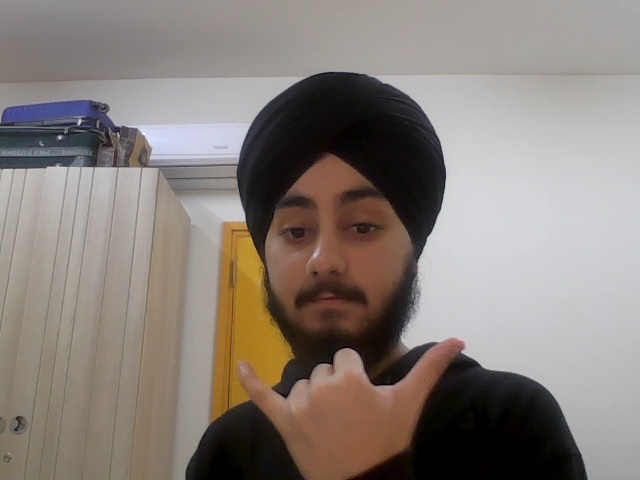Wrong: (231, 337, 468, 480)
